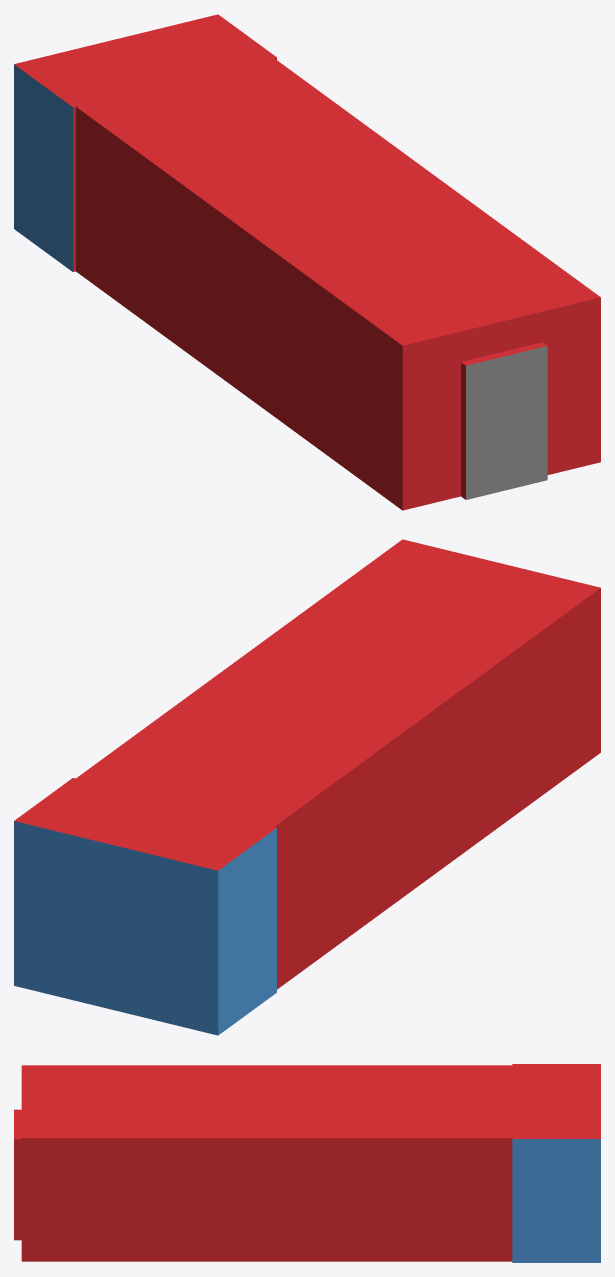
The model's file is Ship_In.glb.
3 views of the same model, one above another, from view 1: azimuth 30°, elevation 25°; view 2: azimuth 150°, elevation 25°; view 3: azimuth 270°, elevation 25° (orthographic). The views are drawn at different scales.
Parts seen in each view (by area): view 1: Ship_In; view 2: Ship_In; view 3: Ship_In.
Part boxes in pixels (bbox=[...]): Ship_In: bbox=[14, 14, 600, 510]; Ship_In: bbox=[14, 539, 600, 1035]; Ship_In: bbox=[14, 1064, 600, 1262].
Size of the model in its own units: 3.5 by 2.7 by 11.6.
